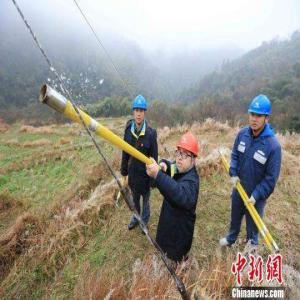blue: (249, 94, 271, 134), (132, 94, 148, 126)
red: (175, 134, 199, 174)
